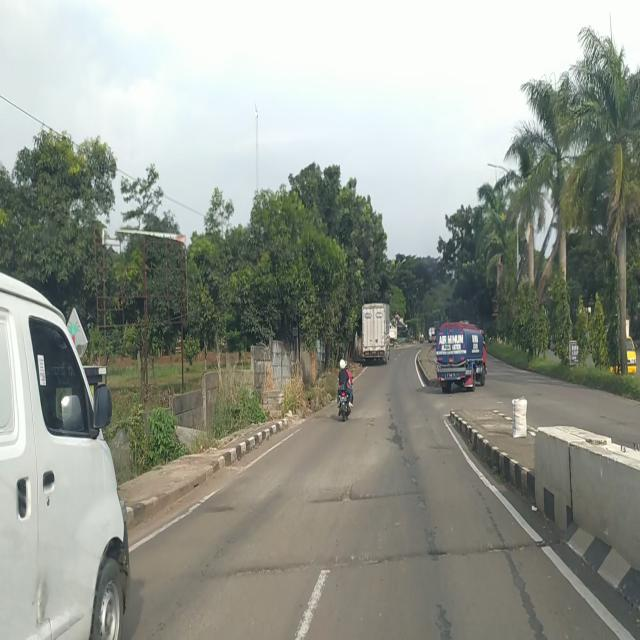Sewer Cover: (211, 540, 533, 591), (302, 492, 424, 504), (197, 502, 236, 518)
